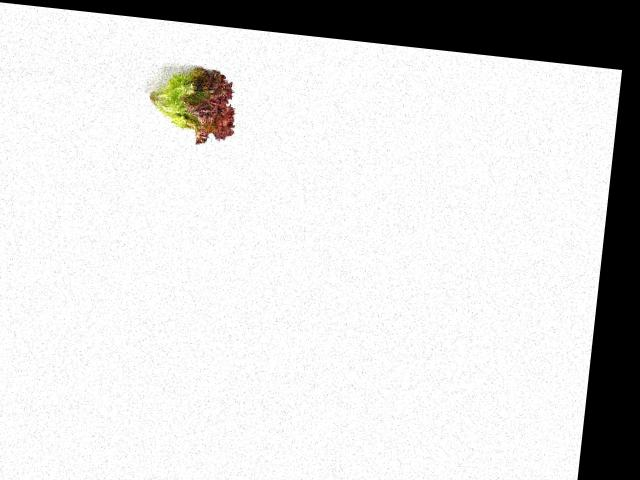lettuce: (134, 59, 245, 146)
